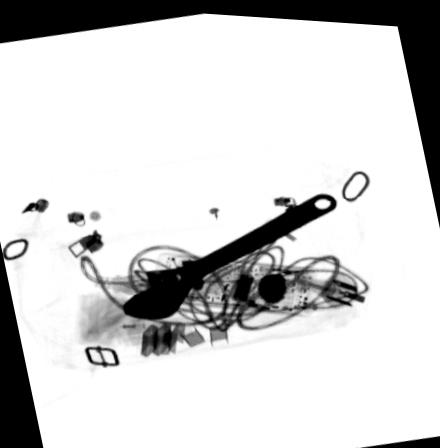Wrench: (118, 186, 338, 320)
